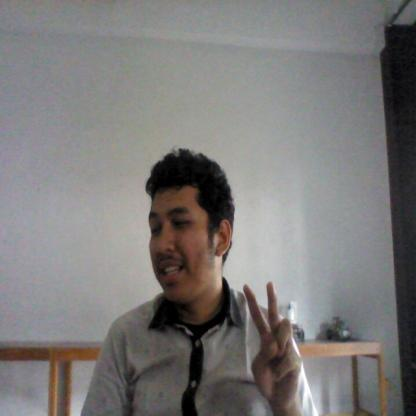V: (242, 280, 302, 407)
